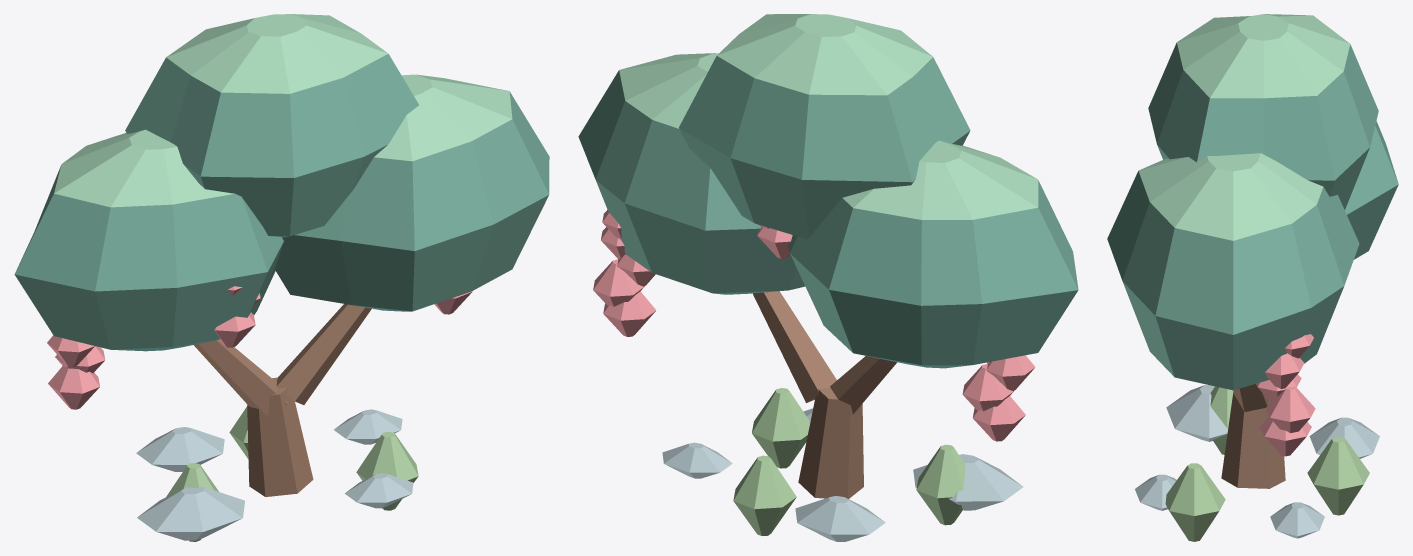
File: lagoon_shrub_red_flowering_currant_a.glb
3 views of the same model, side by side, from view 1: azimuth 30°, elevation 25°; view 2: azimuth 150°, elevation 25°; view 3: azimuth 270°, elevation 25° (orthographic). The views are drawn at different scales.
Parts seen in each view (by area): view 1: lagoon_shrub_red_flowering_currant_a.001; view 2: lagoon_shrub_red_flowering_currant_a.001; view 3: lagoon_shrub_red_flowering_currant_a.001.
Boxes of the visible parts, <box> form: lagoon_shrub_red_flowering_currant_a.001: <box>14,14,549,541</box>; lagoon_shrub_red_flowering_currant_a.001: <box>578,14,1078,541</box>; lagoon_shrub_red_flowering_currant_a.001: <box>1107,14,1398,541</box>.
Size of the model in its own units: 2.93 by 2.6 by 1.45.
